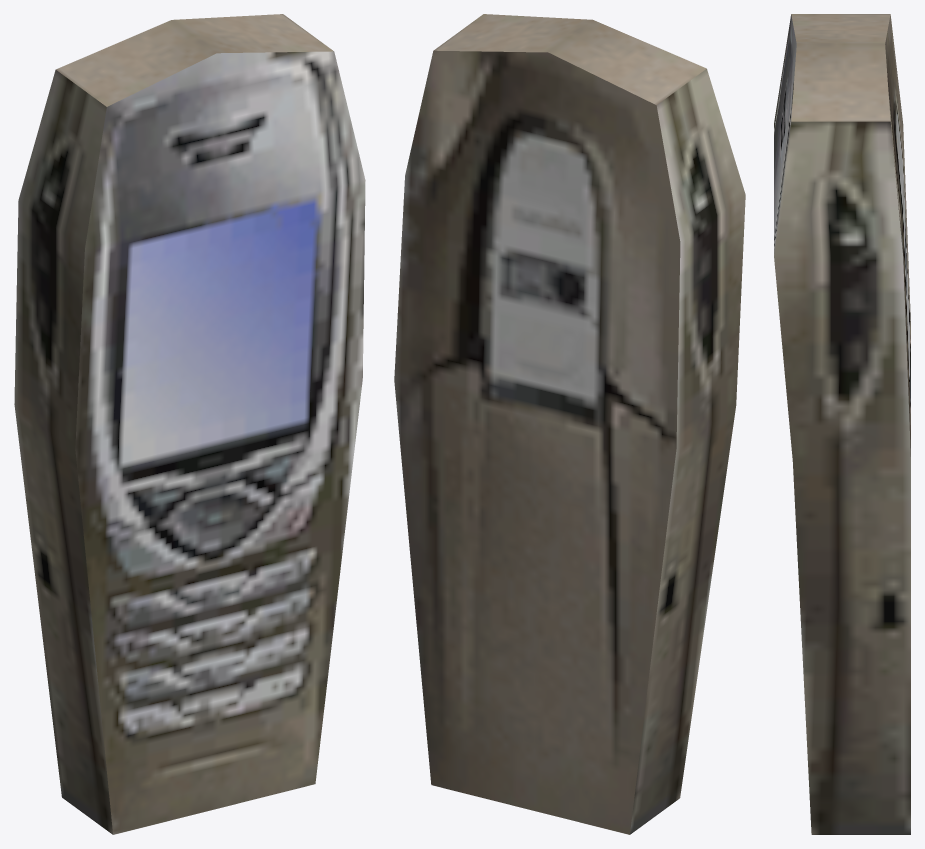
The model's file is mobile.glb.
The picture shows the model from 3 angles, left to right: view 1: azimuth 30°, elevation 25°; view 2: azimuth 150°, elevation 25°; view 3: azimuth 270°, elevation 25°; orthographic projection. The views are drawn at different scales.
Visible parts, largest first — view 1: mobille; view 2: mobille; view 3: mobille.
Part boxes in pixels (<box>): mobille: <box>14,14,365,834</box>; mobille: <box>394,14,745,834</box>; mobille: <box>774,14,910,834</box>.
Size of the model in its own units: 3.19 by 8.1 by 1.36.
1 material, 1 textured.
